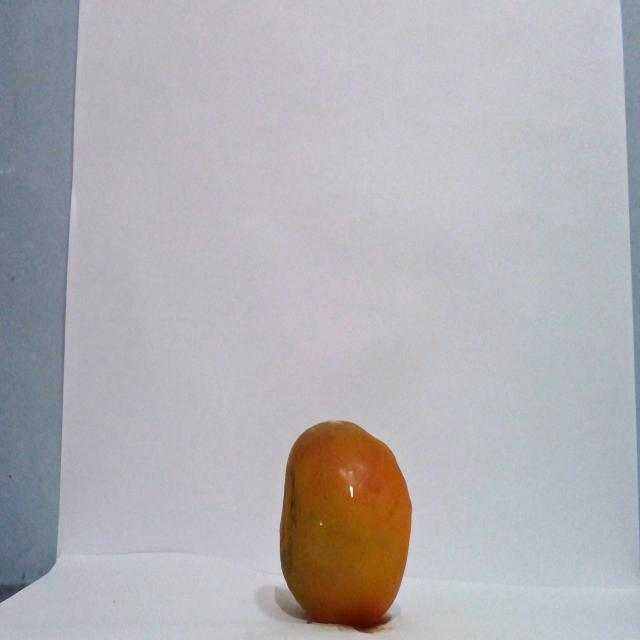Red: (278, 418, 413, 628)
